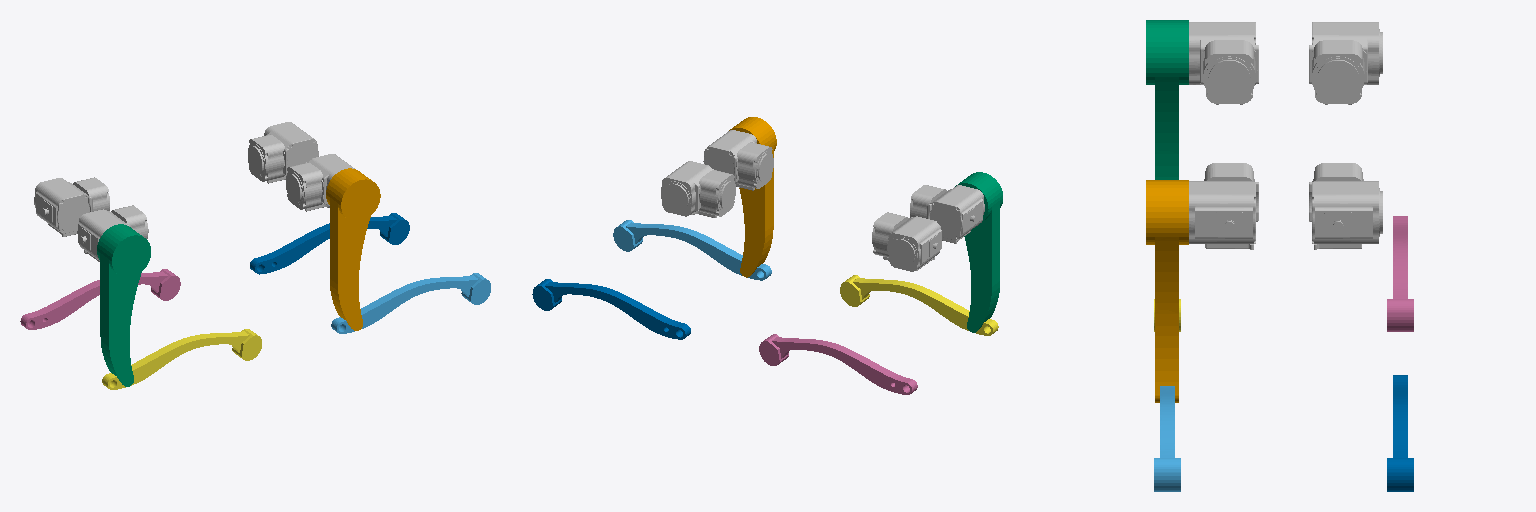
robot.urdf — rbq10:
<?xml version="1.0"?>
<!-- Auto-migrated from the matching .sdf (one-shot). Robots/sensors are URDF; worlds stay SDF.
     model:// mesh URIs are Gazebo-native; the gz_sensor_bridge build rewrites them to package:// for RViz. -->
<robot name="rbq10">
  <material name="mat_0.792_0.792_0.792_1"><color rgba="0.792 0.792 0.792 1"/></material>

  <link name="trunk">
    <inertial>
      <origin xyz="-0.013265 0 0.011765" rpy="0 0 0"/>
      <mass value="16.757999999999999"/>
      <inertia ixx="0.16383162926600001" ixy="-0.000271071491" ixz="0.040352639310999999" iyy="0.59089134130599996" iyz="0.00021642833200000001" izz="0.67871478826800002"/>
    </inertial>
    <visual name="trunk_visual">
      <origin xyz="0 0 0" rpy="0 0 0"/>
      <geometry>
        <mesh filename="model://rbq/trunk.obj" scale="1 1 1"/>
      </geometry>
    </visual>
    <collision name="trunk_collision">
      <origin xyz="0 0 0" rpy="0 0 0"/>
      <geometry>
        <box size="0.8 0.2 0.12"/>
      </geometry>
    </collision>
    <!-- @SENSOR_VISUAL@ : lidar mesh <visual> blocks spliced here at spawn -->
  </link>
  <link name="HR_hip">
    <inertial>
      <origin xyz="0.027522 -0.01681 -0.00187" rpy="0 0 0"/>
      <mass value="3.6693440000000002"/>
      <inertia ixx="0.0069575902820000002" ixy="-0.0017011378" ixz="-2.9676182999999999e-05" iyy="0.00993982268" iyz="8.7952172000000005e-05" izz="0.012145140245"/>
    </inertial>
    <visual name="HR_hip_visual">
      <origin xyz="0 0 0" rpy="0 0 -3.141585307179587"/>
      <geometry>
        <mesh filename="model://rbq/hip3.stl" scale="1 1 1"/>
      </geometry>
      <material name="mat_0.792_0.792_0.792_1"/>
    </visual>
  </link>
  <link name="HR_thigh">
    <inertial>
      <origin xyz="-0.004765 -0.00441 -0.06311" rpy="0 0 0"/>
      <mass value="1.8001400000000001"/>
      <inertia ixx="0.018990787557999999" ixy="4.5769434999999998e-05" ixz="-0.0010248095629999999" iyy="0.019770882672000001" iyz="0.00051050423299999999" izz="0.001828257915"/>
    </inertial>
    <visual name="HR_thigh_visual">
      <origin xyz="0 0 0" rpy="0 0 0"/>
      <geometry>
        <mesh filename="model://rbq/thigh_right.obj" scale="1 1 1"/>
      </geometry>
    </visual>
    <collision name="HR_thigh_collision">
      <origin xyz="0 0 0" rpy="1.57 0 0"/>
      <geometry>
        <cylinder radius="0.059999999999999998" length="0.070000000000000007"/>
      </geometry>
    </collision>
    <collision name="HR_thigh_collision_1">
      <origin xyz="-0.035 0 -0.125" rpy="0 0 0"/>
      <geometry>
        <box size="0.05 0.04 0.25"/>
      </geometry>
    </collision>
  </link>
  <link name="HR_calf">
    <inertial>
      <origin xyz="0.00793471875 6.356249999999999e-05 -0.170308046875" rpy="0 0 0"/>
      <mass value="0.51200000000000001"/>
      <inertia ixx="0.0060279209186368757" ixy="4.1661014999999993e-08" ixz="-6.3081801981249952e-05" iyy="0.0060784396791743762" iyz="8.6548187625000008e-06" izz="7.5523401617500001e-05"/>
    </inertial>
    <visual name="HR_calf_visual">
      <origin xyz="0 0 0" rpy="0 0 0"/>
      <geometry>
        <mesh filename="model://rbq/calf.obj" scale="1 1 1"/>
      </geometry>
    </visual>
    <collision name="HR_calf_collision">
      <origin xyz="0 0 -0.065" rpy="0 -0.226893 0"/>
      <geometry>
        <box size="0.02 0.03 0.21"/>
      </geometry>
    </collision>
    <collision name="HR_calf_collision_1">
      <origin xyz="0.02 0 -0.23" rpy="0 0.11 0"/>
      <geometry>
        <box size="0.02 0.03 0.08"/>
      </geometry>
    </collision>
    <collision name="HR_calf_fixed_joint_lump__HR_foot_collision_2">
      <origin xyz="0 0 -0.355" rpy="0 0 0"/>
      <geometry>
        <box size="0.05 0.05 0.01"/>
      </geometry>
    </collision>
  </link>
  <link name="HL_hip">
    <inertial>
      <origin xyz="0.027522 0.01681 -0.00187" rpy="0 0 0"/>
      <mass value="3.6693440000000002"/>
      <inertia ixx="0.0069575902820000002" ixy="0.0017011378" ixz="-2.9676182999999999e-05" iyy="0.00993982268" iyz="-8.7952172000000005e-05" izz="0.012145140245"/>
    </inertial>
    <visual name="HL_hip_visual">
      <origin xyz="0 0 0" rpy="0 0 3.141592"/>
      <geometry>
        <mesh filename="model://rbq/hip2.stl" scale="1 1 1"/>
      </geometry>
      <material name="mat_0.792_0.792_0.792_1"/>
    </visual>
  </link>
  <link name="HL_thigh">
    <inertial>
      <origin xyz="-0.004765 0.00441 -0.06311" rpy="0 0 0"/>
      <mass value="1.8001400000000001"/>
      <inertia ixx="0.018990787557999999" ixy="-4.5769434999999998e-05" ixz="-0.0010248095629999999" iyy="0.019770882672000001" iyz="-0.00051050423299999999" izz="0.001828257915"/>
    </inertial>
    <visual name="HL_thigh_visual">
      <origin xyz="0 0 0" rpy="0 0 0"/>
      <geometry>
        <mesh filename="model://rbq/thigh.obj" scale="1 1 1"/>
      </geometry>
    </visual>
    <collision name="HL_thigh_collision">
      <origin xyz="0 0 0" rpy="1.57 0 0"/>
      <geometry>
        <cylinder radius="0.059999999999999998" length="0.070000000000000007"/>
      </geometry>
    </collision>
    <collision name="HL_thigh_collision_1">
      <origin xyz="-0.035 0 -0.125" rpy="0 0 0"/>
      <geometry>
        <box size="0.05 0.04 0.25"/>
      </geometry>
    </collision>
  </link>
  <link name="HL_calf">
    <inertial>
      <origin xyz="0.00793471875 -6.356249999999999e-05 -0.170308046875" rpy="0 0 0"/>
      <mass value="0.51200000000000001"/>
      <inertia ixx="0.0060279209186368757" ixy="-4.1661014999999993e-08" ixz="-6.3081801981249952e-05" iyy="0.0060784396791743762" iyz="-8.6548187625000008e-06" izz="7.5523401617500001e-05"/>
    </inertial>
    <visual name="HL_calf_visual">
      <origin xyz="0 0 0" rpy="0 0 0"/>
      <geometry>
        <mesh filename="model://rbq/calf.obj" scale="1 1 1"/>
      </geometry>
    </visual>
    <collision name="HL_calf_collision">
      <origin xyz="0 0 -0.065" rpy="0 -0.226893 0"/>
      <geometry>
        <box size="0.02 0.03 0.21"/>
      </geometry>
    </collision>
    <collision name="HL_calf_collision_1">
      <origin xyz="0.02 0 -0.23" rpy="0 0.11 0"/>
      <geometry>
        <box size="0.02 0.03 0.08"/>
      </geometry>
    </collision>
    <collision name="HL_calf_fixed_joint_lump__HL_foot_collision_2">
      <origin xyz="0 0 -0.355" rpy="0 0 0"/>
      <geometry>
        <box size="0.05 0.05 0.01"/>
      </geometry>
    </collision>
  </link>
  <link name="FR_hip">
    <inertial>
      <origin xyz="-0.027522 -0.01681 -0.00187" rpy="0 0 0"/>
      <mass value="3.6693440000000002"/>
      <inertia ixx="0.0069575902820000002" ixy="0.0017011378" ixz="2.9676182999999999e-05" iyy="0.00993982268" iyz="8.7952172000000005e-05" izz="0.012145140245"/>
    </inertial>
    <visual name="FR_hip_visual">
      <origin xyz="0 0 0" rpy="0 0 0"/>
      <geometry>
        <mesh filename="model://rbq/hip2.stl" scale="1 1 1"/>
      </geometry>
      <material name="mat_0.792_0.792_0.792_1"/>
    </visual>
  </link>
  <link name="FR_thigh">
    <inertial>
      <origin xyz="-0.004765 -0.00441 -0.06311" rpy="0 0 0"/>
      <mass value="1.8001400000000001"/>
      <inertia ixx="0.018990787557999999" ixy="4.5769434999999998e-05" ixz="-0.0010248095629999999" iyy="0.019770882672000001" iyz="0.00051050423299999999" izz="0.001828257915"/>
    </inertial>
    <visual name="FR_thigh_visual">
      <origin xyz="0 0 0" rpy="0 0 0"/>
      <geometry>
        <mesh filename="model://rbq/thigh_right.obj" scale="1 1 1"/>
      </geometry>
    </visual>
    <collision name="FR_thigh_collision">
      <origin xyz="0 0 0" rpy="1.57 0 0"/>
      <geometry>
        <cylinder radius="0.059999999999999998" length="0.070000000000000007"/>
      </geometry>
    </collision>
    <collision name="FR_thigh_collision_1">
      <origin xyz="-0.035 0 -0.125" rpy="0 0 0"/>
      <geometry>
        <box size="0.05 0.04 0.25"/>
      </geometry>
    </collision>
  </link>
  <link name="FR_calf">
    <inertial>
      <origin xyz="0.00793471875 6.356249999999999e-05 -0.170308046875" rpy="0 0 0"/>
      <mass value="0.51200000000000001"/>
      <inertia ixx="0.0060279209186368757" ixy="4.1661014999999993e-08" ixz="-6.3081801981249952e-05" iyy="0.0060784396791743762" iyz="8.6548187625000008e-06" izz="7.5523401617500001e-05"/>
    </inertial>
    <visual name="FR_calf_visual">
      <origin xyz="0 0 0" rpy="0 0 0"/>
      <geometry>
        <mesh filename="model://rbq/calf.obj" scale="1 1 1"/>
      </geometry>
    </visual>
    <collision name="FR_calf_collision">
      <origin xyz="0 0 -0.065" rpy="0 -0.226893 0"/>
      <geometry>
        <box size="0.02 0.03 0.21"/>
      </geometry>
    </collision>
    <collision name="FR_calf_collision_1">
      <origin xyz="0.02 0 -0.23" rpy="0 0.11 0"/>
      <geometry>
        <box size="0.02 0.03 0.08"/>
      </geometry>
    </collision>
    <collision name="FR_calf_fixed_joint_lump__FR_foot_collision_2">
      <origin xyz="0 0 -0.355" rpy="0 0 0"/>
      <geometry>
        <box size="0.05 0.05 0.01"/>
      </geometry>
    </collision>
  </link>
  <link name="FL_hip">
    <inertial>
      <origin xyz="-0.027522 0.01681 -0.00187" rpy="0 0 0"/>
      <mass value="3.6693440000000002"/>
      <inertia ixx="0.0069575902820000002" ixy="-0.0017011378" ixz="2.9676182999999999e-05" iyy="0.00993982268" iyz="-8.7952172000000005e-05" izz="0.012145140245"/>
    </inertial>
    <visual name="FL_hip_visual">
      <origin xyz="0 0 0" rpy="0 0 0"/>
      <geometry>
        <mesh filename="model://rbq/hip3.stl" scale="1 1 1"/>
      </geometry>
      <material name="mat_0.792_0.792_0.792_1"/>
    </visual>
  </link>
  <link name="FL_thigh">
    <inertial>
      <origin xyz="-0.004765 0.00441 -0.06311" rpy="0 0 0"/>
      <mass value="1.8001400000000001"/>
      <inertia ixx="0.018990787557999999" ixy="-4.5769434999999998e-05" ixz="-0.0010248095629999999" iyy="0.019770882672000001" iyz="-0.00051050423299999999" izz="0.001828257915"/>
    </inertial>
    <visual name="FL_thigh_visual">
      <origin xyz="0 0 0" rpy="0 0 0"/>
      <geometry>
        <mesh filename="model://rbq/thigh.obj" scale="1 1 1"/>
      </geometry>
    </visual>
    <collision name="FL_thigh_collision">
      <origin xyz="0 0 0" rpy="1.57 0 0"/>
      <geometry>
        <cylinder radius="0.059999999999999998" length="0.070000000000000007"/>
      </geometry>
    </collision>
    <collision name="FL_thigh_collision_1">
      <origin xyz="-0.035 0 -0.125" rpy="0 0 0"/>
      <geometry>
        <box size="0.05 0.04 0.25"/>
      </geometry>
    </collision>
  </link>
  <link name="FL_calf">
    <inertial>
      <origin xyz="0.00793471875 -6.356249999999999e-05 -0.170308046875" rpy="0 0 0"/>
      <mass value="0.51200000000000001"/>
      <inertia ixx="0.0060279209186368757" ixy="-4.1661014999999993e-08" ixz="-6.3081801981249952e-05" iyy="0.0060784396791743762" iyz="-8.6548187625000008e-06" izz="7.5523401617500001e-05"/>
    </inertial>
    <visual name="FL_calf_visual">
      <origin xyz="0 0 0" rpy="0 0 0"/>
      <geometry>
        <mesh filename="model://rbq/calf.obj" scale="1 1 1"/>
      </geometry>
    </visual>
    <collision name="FL_calf_collision">
      <origin xyz="0 0 -0.065" rpy="0 -0.226893 0"/>
      <geometry>
        <box size="0.02 0.03 0.21"/>
      </geometry>
    </collision>
    <collision name="FL_calf_collision_1">
      <origin xyz="0.02 0 -0.23" rpy="0 0.11 0"/>
      <geometry>
        <box size="0.02 0.03 0.08"/>
      </geometry>
    </collision>
    <collision name="FL_calf_fixed_joint_lump__FL_foot_collision_2">
      <origin xyz="0 0 -0.355" rpy="0 0 0"/>
      <geometry>
        <box size="0.05 0.05 0.01"/>
      </geometry>
    </collision>
  </link>
  <link name="HR_foot"/>
  <link name="HL_foot"/>
  <link name="FR_foot"/>
  <link name="FL_foot"/>
  <joint name="joint0_HRR" type="revolute">
    <origin xyz="-0.31218 -0.09 0" rpy="0 0 0"/>
    <parent link="trunk"/>
    <child link="HR_hip"/>
    <axis xyz="1 0 0"/>
    <limit lower="-0.73299999999999998" upper="0.54110000000000003" effort="100" velocity="50"/>
    <dynamics damping="0" friction="0"/>
  </joint>
  <joint name="joint1_HRP" type="revolute">
    <origin xyz="0 -0.10285 0" rpy="0 0 0"/>
    <parent link="HR_hip"/>
    <child link="HR_thigh"/>
    <axis xyz="0 1 0"/>
    <limit lower="-6.2831999999999999" upper="6.2831999999999999" effort="100" velocity="50"/>
    <dynamics damping="0" friction="0"/>
  </joint>
  <joint name="joint2_HRK" type="revolute">
    <origin xyz="0 0 -0.33" rpy="0 0 0"/>
    <parent link="HR_thigh"/>
    <child link="HR_calf"/>
    <axis xyz="0 1 0"/>
    <limit lower="-2.8273999999999999" upper="-0.41889999999999999" effort="150" velocity="50"/>
    <dynamics damping="0" friction="0"/>
  </joint>
  <joint name="joint3_HLR" type="revolute">
    <origin xyz="-0.31218 0.09 0" rpy="0 0 0"/>
    <parent link="trunk"/>
    <child link="HL_hip"/>
    <axis xyz="1 0 0"/>
    <limit lower="-0.54110000000000003" upper="0.73299999999999998" effort="100" velocity="50"/>
    <dynamics damping="0" friction="0"/>
  </joint>
  <joint name="joint4_HLP" type="revolute">
    <origin xyz="0 0.10285 0" rpy="0 0 0"/>
    <parent link="HL_hip"/>
    <child link="HL_thigh"/>
    <axis xyz="0 1 0"/>
    <limit lower="-6.2831999999999999" upper="6.2831999999999999" effort="100" velocity="50"/>
    <dynamics damping="0" friction="0"/>
  </joint>
  <joint name="joint5_HLK" type="revolute">
    <origin xyz="0 0 -0.33" rpy="0 0 0"/>
    <parent link="HL_thigh"/>
    <child link="HL_calf"/>
    <axis xyz="0 1 0"/>
    <limit lower="-2.8273999999999999" upper="-0.41889999999999999" effort="150" velocity="50"/>
    <dynamics damping="0" friction="0"/>
  </joint>
  <joint name="joint6_FRR" type="revolute">
    <origin xyz="0.31218 -0.09 0" rpy="0 0 0"/>
    <parent link="trunk"/>
    <child link="FR_hip"/>
    <axis xyz="1 0 0"/>
    <limit lower="-0.73299999999999998" upper="0.54110000000000003" effort="100" velocity="50"/>
    <dynamics damping="0" friction="0"/>
  </joint>
  <joint name="joint7_FRP" type="revolute">
    <origin xyz="0 -0.10285 0" rpy="0 0 0"/>
    <parent link="FR_hip"/>
    <child link="FR_thigh"/>
    <axis xyz="0 1 0"/>
    <limit lower="-6.2831999999999999" upper="6.2831999999999999" effort="100" velocity="50"/>
    <dynamics damping="0" friction="0"/>
  </joint>
  <joint name="joint8_FRK" type="revolute">
    <origin xyz="0 0 -0.33" rpy="0 0 0"/>
    <parent link="FR_thigh"/>
    <child link="FR_calf"/>
    <axis xyz="0 1 0"/>
    <limit lower="-2.8273999999999999" upper="-0.41889999999999999" effort="150" velocity="50"/>
    <dynamics damping="0" friction="0"/>
  </joint>
  <joint name="joint9_FLR" type="revolute">
    <origin xyz="0.31218 0.09 0" rpy="0 0 0"/>
    <parent link="trunk"/>
    <child link="FL_hip"/>
    <axis xyz="1 0 0"/>
    <limit lower="-0.54110000000000003" upper="0.73299999999999998" effort="100" velocity="50"/>
    <dynamics damping="0" friction="0"/>
  </joint>
  <joint name="joint10_FLP" type="revolute">
    <origin xyz="0 0.10285 0" rpy="0 0 0"/>
    <parent link="FL_hip"/>
    <child link="FL_thigh"/>
    <axis xyz="0 1 0"/>
    <limit lower="-6.2831999999999999" upper="6.2831999999999999" effort="100" velocity="50"/>
    <dynamics damping="0" friction="0"/>
  </joint>
  <joint name="joint11_FLK" type="revolute">
    <origin xyz="0 0 -0.33" rpy="0 0 0"/>
    <parent link="FL_thigh"/>
    <child link="FL_calf"/>
    <axis xyz="0 1 0"/>
    <limit lower="-2.8273999999999999" upper="-0.41889999999999999" effort="150" velocity="50"/>
    <dynamics damping="0" friction="0"/>
  </joint>
  <joint name="foot_joint_HRF" type="fixed" dont_collapse="true">
    <origin xyz="0 0 -0.33" rpy="0 -0 0"/>
    <parent link="HR_calf"/>
    <child link="HR_foot"/>
  </joint>
  <joint name="foot_joint_HLF" type="fixed" dont_collapse="true">
    <origin xyz="0 0 -0.33" rpy="0 -0 0"/>
    <parent link="HL_calf"/>
    <child link="HL_foot"/>
  </joint>
  <joint name="foot_joint_FRF" type="fixed" dont_collapse="true">
    <origin xyz="0 0 -0.33" rpy="0 -0 0"/>
    <parent link="FR_calf"/>
    <child link="FR_foot"/>
  </joint>
  <joint name="foot_joint_FLF" type="fixed" dont_collapse="true">
    <origin xyz="0 0 -0.33" rpy="0 -0 0"/>
    <parent link="FL_calf"/>
    <child link="FL_foot"/>
  </joint>

  <gazebo reference="trunk">
    <sensor name="imu_sensor" type="imu">
            <always_on>true</always_on>
            <update_rate>500</update_rate>
            <topic>/rbq/imu</topic>
            <pose>0.00665 0 -0.0404 0 -0 0</pose>
          </sensor>
  </gazebo>

  <gazebo reference="HR_calf"><mu1>0.8</mu1><mu2>0.8</mu2></gazebo>
  <gazebo reference="HL_calf"><mu1>0.8</mu1><mu2>0.8</mu2></gazebo>
  <gazebo reference="FR_calf"><mu1>0.8</mu1><mu2>0.8</mu2></gazebo>
  <gazebo reference="FL_calf"><mu1>0.8</mu1><mu2>0.8</mu2></gazebo>

  <!-- @SENSORS@ : camera.urdf (required) + {livox|ouster}.urdf + user_sensor.urdf <gazebo><sensor> blocks spliced here at spawn. -->
</robot>

--- What the picture shows (computed from the rendered views, not written in the file) ---
3 views of the same robot in one strip: view 1: azimuth 30°, elevation 25°; view 2: azimuth 150°, elevation 25°; view 3: azimuth 270°, elevation 25° (orthographic).
Model rbq10 with 17 links and 16 joints (12 revolute, 4 fixed), rooted at trunk, posed joints at zero except 4 at the middle of their limits (joint2_HRK = -1.62, joint5_HLK = -1.62, joint8_FRK = -1.62, joint11_FLK = -1.62).
Links seen in each view (by area): view 1: HR_thigh, FR_thigh, HL_hip, FL_hip, HR_calf, FR_calf, FL_calf, HL_calf, FR_hip, HR_hip; view 2: HR_thigh, FL_hip, FR_thigh, HL_hip, HR_hip, FR_hip, FL_calf, HL_calf, HR_calf, FR_calf; view 3: FR_thigh, FL_hip, FR_hip, HL_hip, HR_hip, HR_thigh, FL_calf, HL_calf, FR_calf.
Boxes of the visible links, x1,y1,x2,y2 form: HR_thigh: [97, 224, 150, 386]; FR_thigh: [326, 168, 380, 330]; HL_hip: [34, 177, 109, 236]; FL_hip: [248, 122, 318, 183]; HR_calf: [102, 329, 261, 389]; FR_calf: [331, 273, 490, 333]; FL_calf: [250, 213, 409, 274]; HL_calf: [20, 269, 180, 329]; FR_hip: [286, 154, 354, 211]; HR_hip: [77, 205, 148, 261]; HR_thigh: [955, 172, 1002, 332]; FL_hip: [661, 161, 735, 217]; FR_thigh: [729, 117, 776, 277]; HL_hip: [872, 212, 941, 271]; HR_hip: [910, 185, 984, 243]; FR_hip: [703, 130, 773, 190]; FL_calf: [532, 279, 690, 339]; HL_calf: [759, 334, 917, 394]; HR_calf: [840, 275, 998, 335]; FR_calf: [613, 220, 771, 280]; FR_thigh: [1146, 180, 1188, 402]; FL_hip: [1309, 163, 1382, 249]; FR_hip: [1189, 163, 1258, 249]; HL_hip: [1309, 22, 1382, 104]; HR_hip: [1189, 22, 1258, 104]; HR_thigh: [1146, 20, 1188, 179]; FL_calf: [1387, 375, 1413, 491]; HL_calf: [1387, 216, 1413, 331]; FR_calf: [1154, 386, 1180, 491].
Size in the robot's own frame: 1.04 by 0.4427 by 0.4071 metres.
10 mesh visuals loaded from 6 distinct referenced files (2 binary STL, 2 OBJ); not drawn: 3 (reference not matched to a file when rendering).
